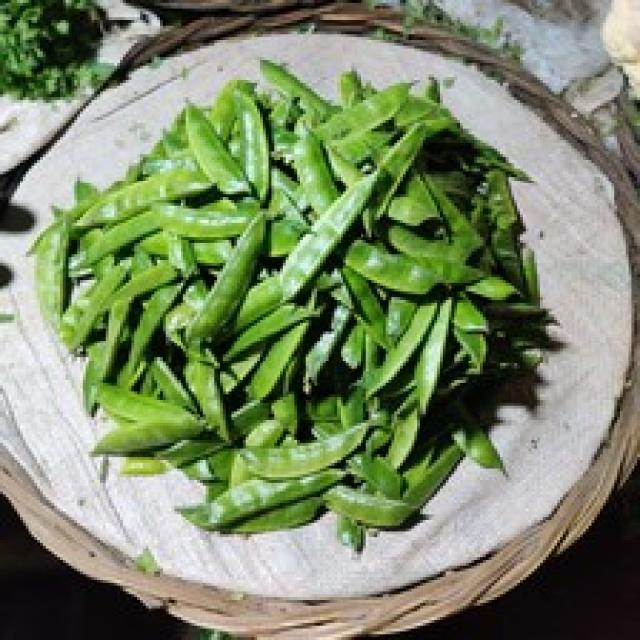Bean: (26, 54, 560, 552)
